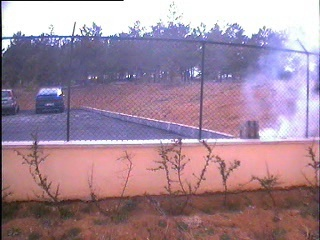smoke: (242, 23, 320, 138)
